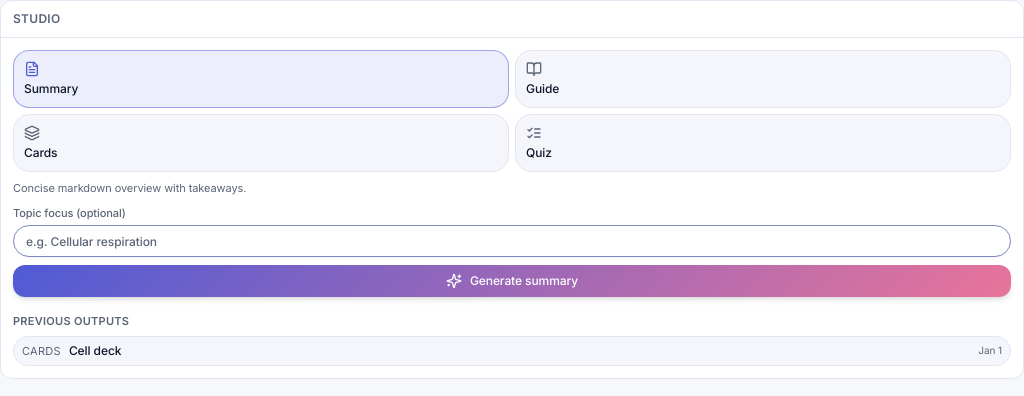
Scenario: the studio flashcards view › offers no Open in study link to a route that does not exist
Click the button "Cards Cell deck Jan 1" at (41, 350), box x1=13 y1=336 x2=1011 y2=366
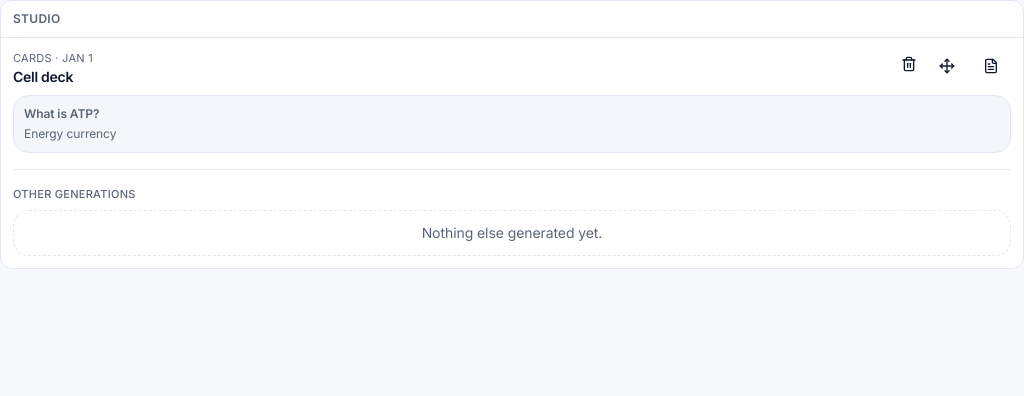
Check: the text "What is ATP?" is shown, box x1=24 y1=106 x2=99 y2=120
